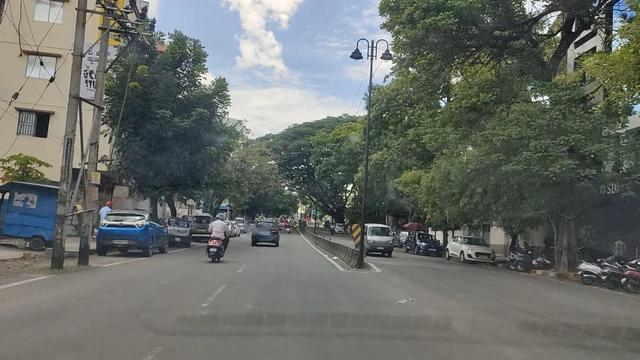LMV: (105, 213, 170, 255), (204, 212, 228, 262), (250, 219, 285, 251)
